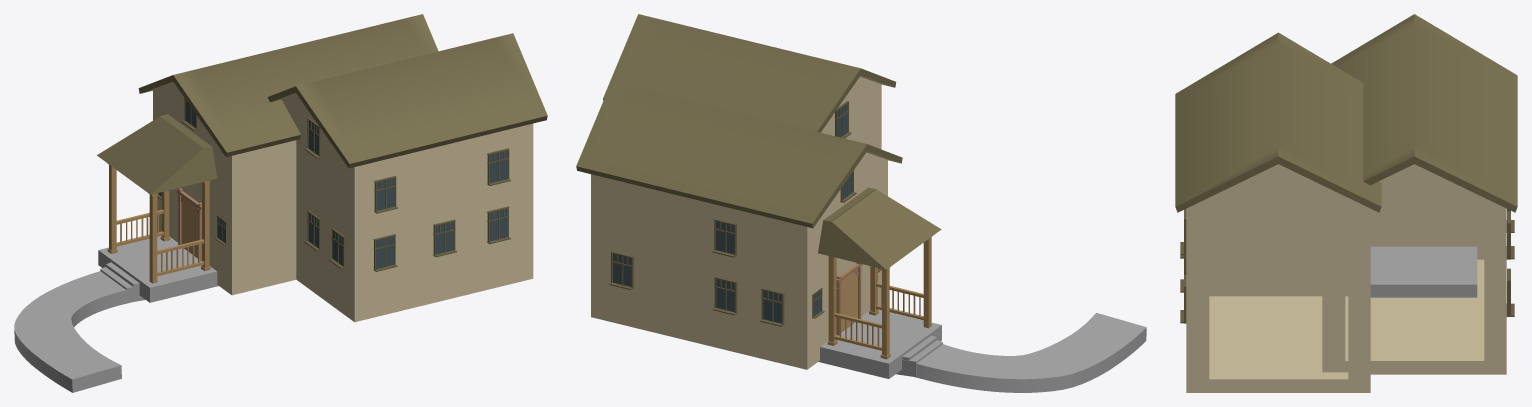
File: house5.fbx
3 views of the same model, side by side, from view 1: azimuth 30°, elevation 25°; view 2: azimuth 150°, elevation 25°; view 3: azimuth 270°, elevation 25° (orthographic). The views are drawn at different scales.
Visible parts, largest first — view 1: house5; view 2: house5; view 3: house5.
Boxes of the visible parts, left/top/right/bottom form: house5: left=14, top=14, right=547, bottom=392; house5: left=576, top=14, right=1146, bottom=392; house5: left=1175, top=14, right=1517, bottom=392.
Size of the model in its own units: 2056 by 939 by 1106.
